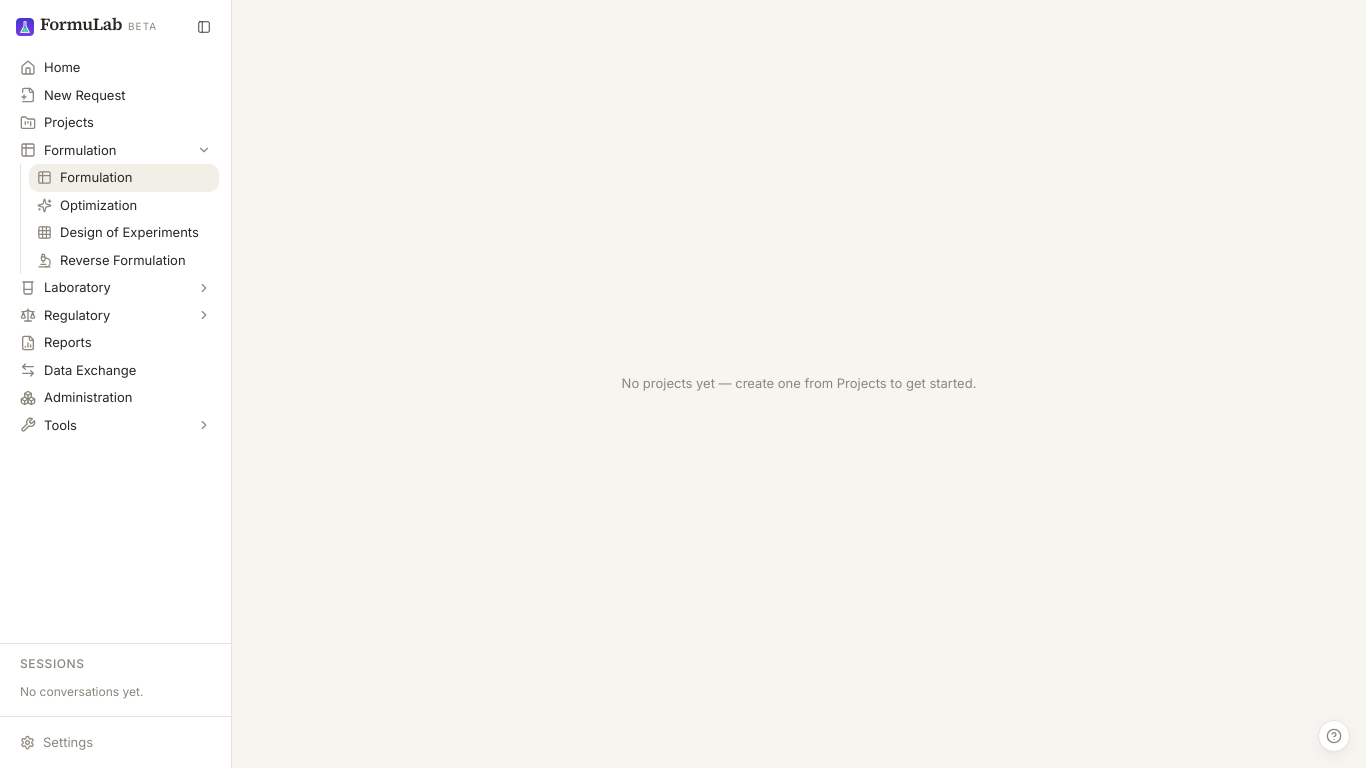
Test case: HelpPanel — starting a tour (Phase 10 Session 4) › Start tour on the Formulation topic closes the panel and launches the formulation tour
This screenshot has width=1366, height=768.
Click the button named "Help". click: [1334, 736]
box: top-left (1318, 720), bottom-right (1350, 752)
(page scrolled)
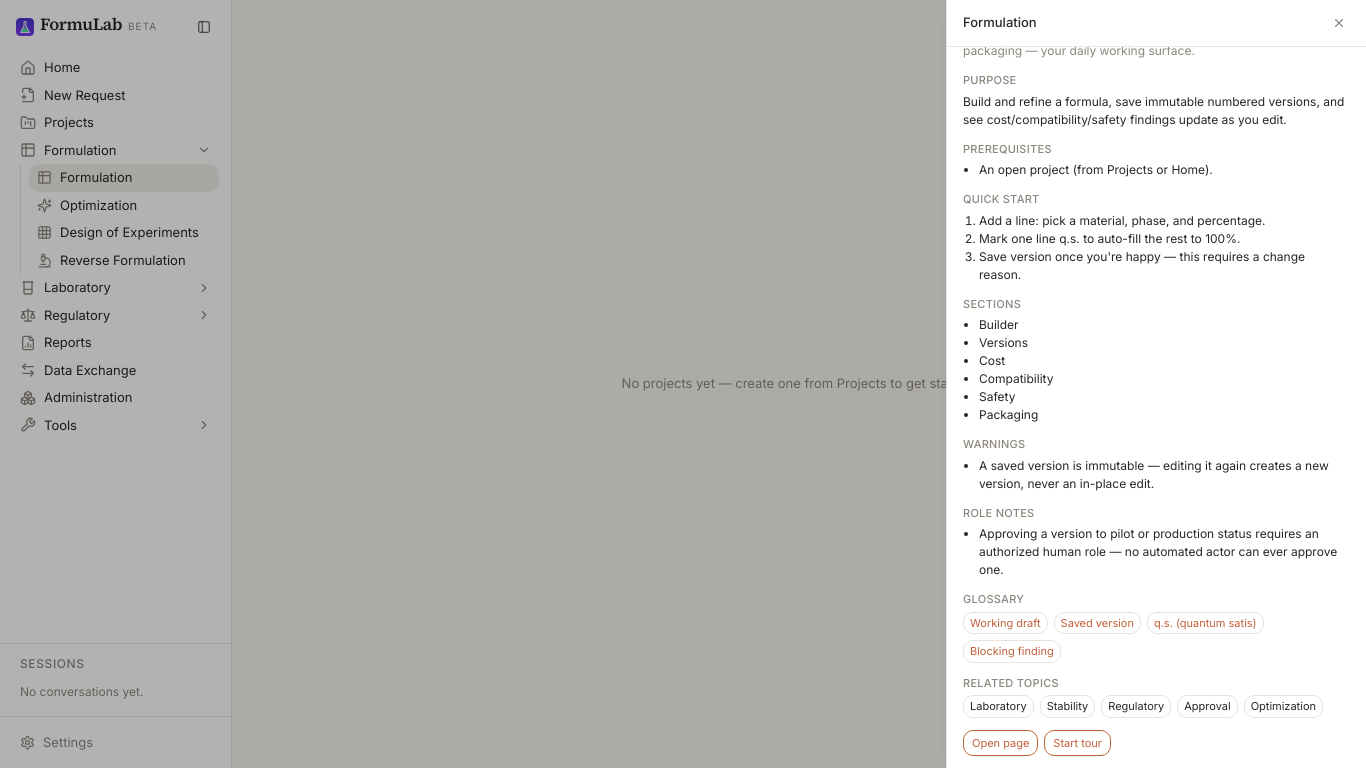
Click the button "Start tour". click: [1078, 743]
box: top-left (1044, 730), bottom-right (1111, 756)
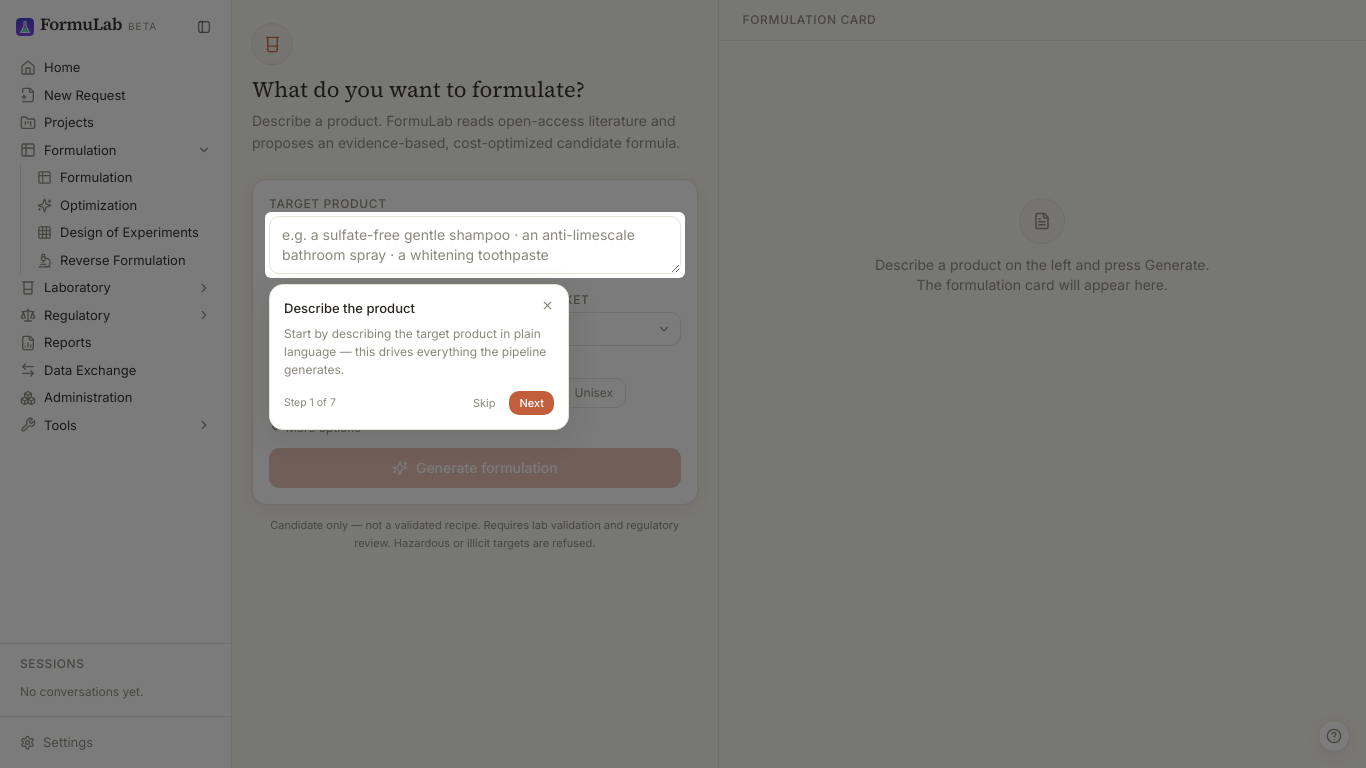
Now the dialog "Describe the product" is shown, box top-left (269, 284), bottom-right (569, 430)
